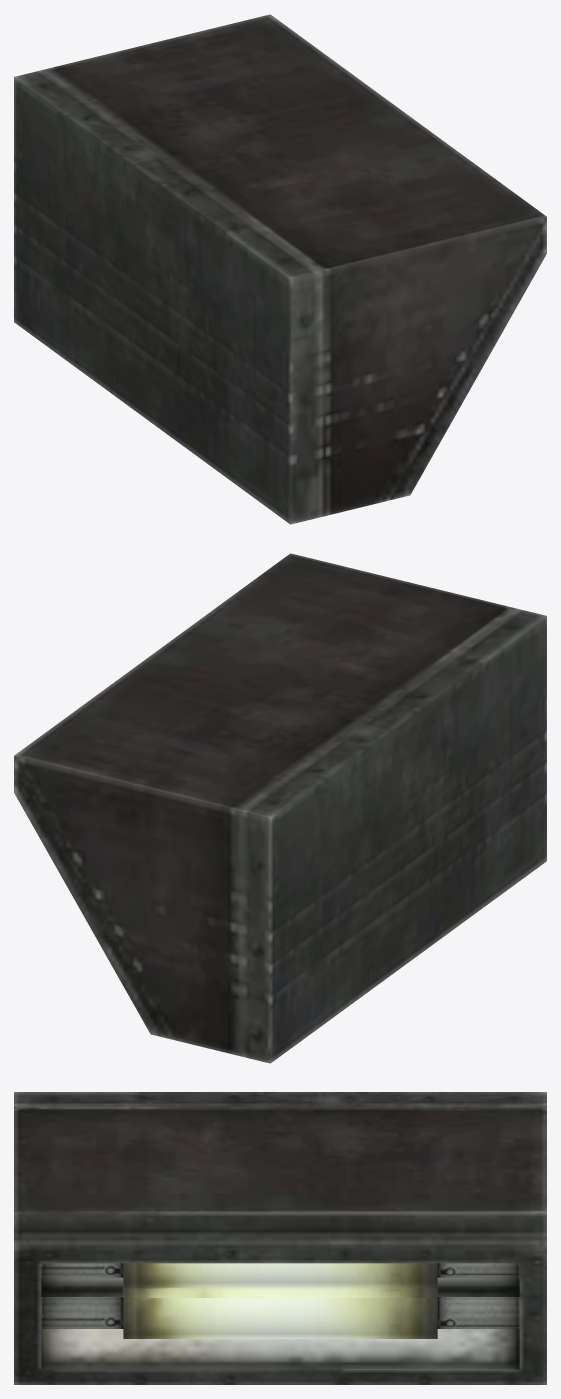
The model's file is venue-floodlight.glb.
3 renders of one model, top to bottom at view 1: azimuth 30°, elevation 25°; view 2: azimuth 150°, elevation 25°; view 3: azimuth 270°, elevation 25°, orthographic. The views are drawn at different scales.
Parts seen in each view (by area): view 1: floodlight.smd_0; view 2: floodlight.smd_0; view 3: floodlight.smd_0.
Part boxes in pixels (left/top/right/bottom): floodlight.smd_0: left=14, top=14, right=546, bottom=524; floodlight.smd_0: left=14, top=553, right=546, bottom=1063; floodlight.smd_0: left=14, top=1092, right=546, bottom=1384.
Bounding box in the file's own units: 0.3374 × 0.3083 × 0.63.
1 material, 1 textured.
